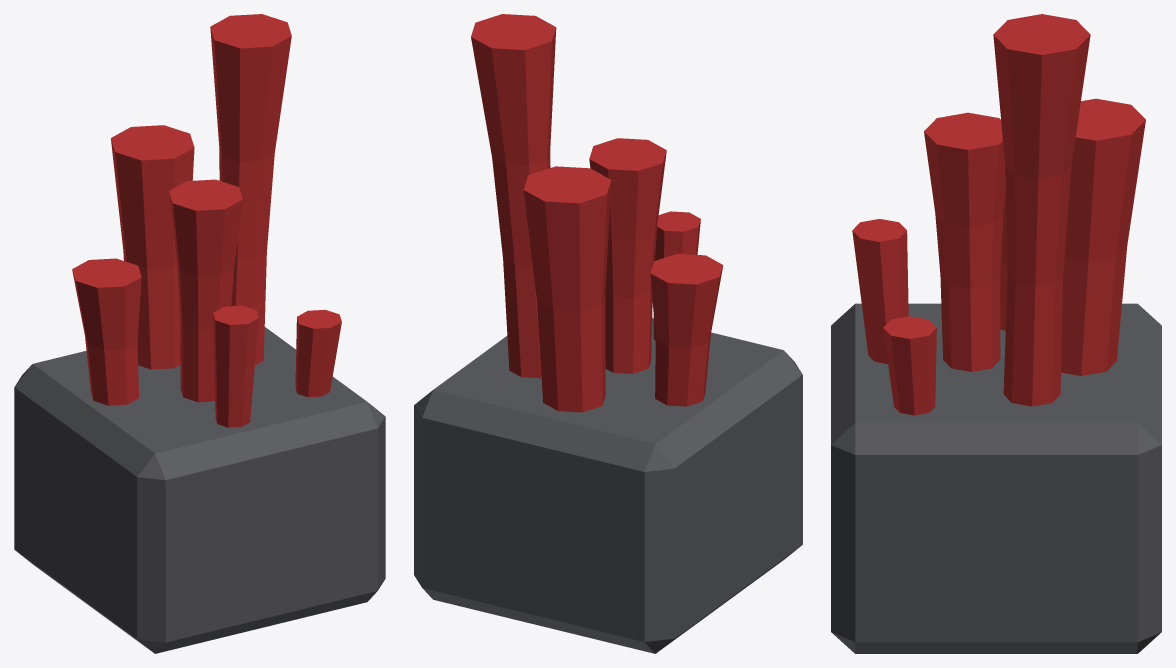
Rendered from candle 04.FBX.
The picture shows the model from 3 angles, left to right: view 1: azimuth 30°, elevation 25°; view 2: azimuth 150°, elevation 25°; view 3: azimuth 270°, elevation 25°; orthographic projection. The views are drawn at different scales.
Visible parts, largest first — view 1: candle 04; view 2: candle 04; view 3: candle 04.
Part boxes in pixels (<box>): candle 04: <box>14,14,385,653</box>; candle 04: <box>414,14,802,653</box>; candle 04: <box>831,14,1161,653</box>.
Size of the model in its own units: 18 by 36 by 18.
1 material, 1 textured.
